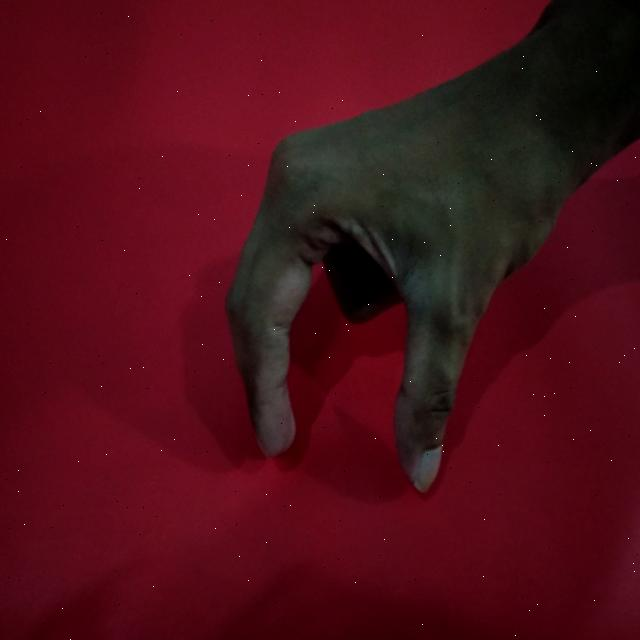Q: (217, 0, 640, 499)
